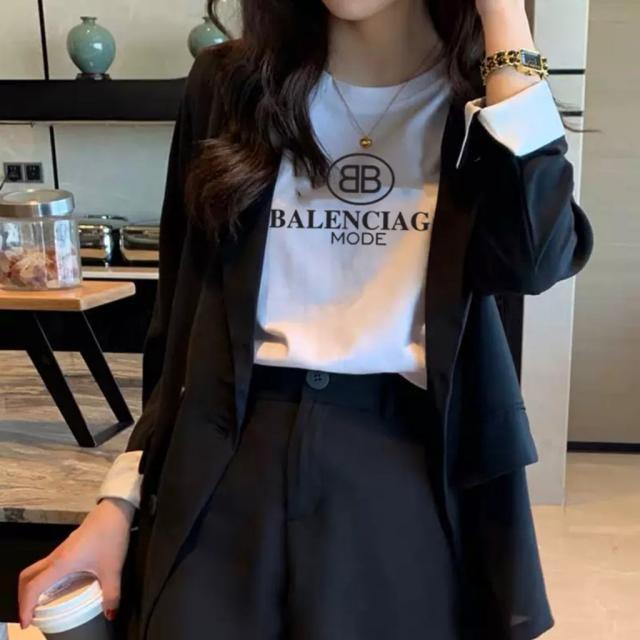Shirt: (113, 28, 593, 640)
